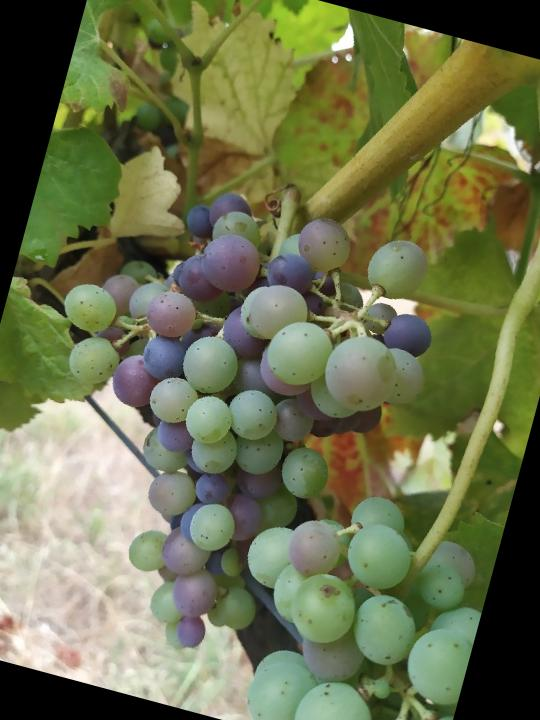grape: (0, 153, 461, 700)
